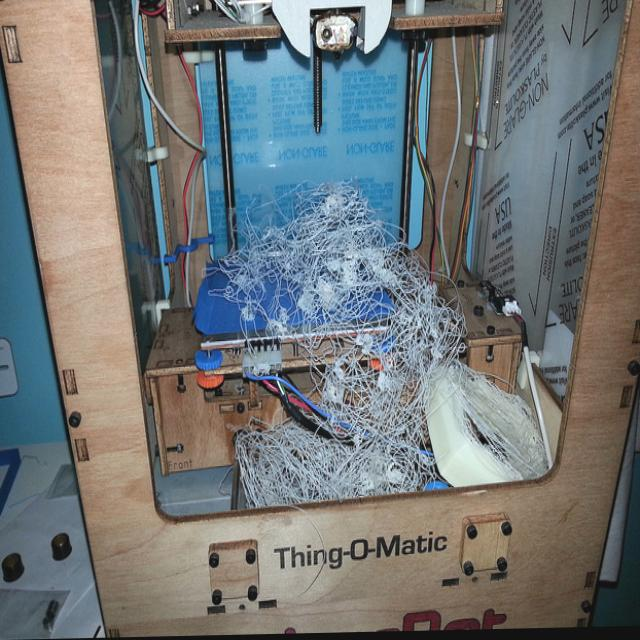spaghetti: (214, 154, 476, 548)
